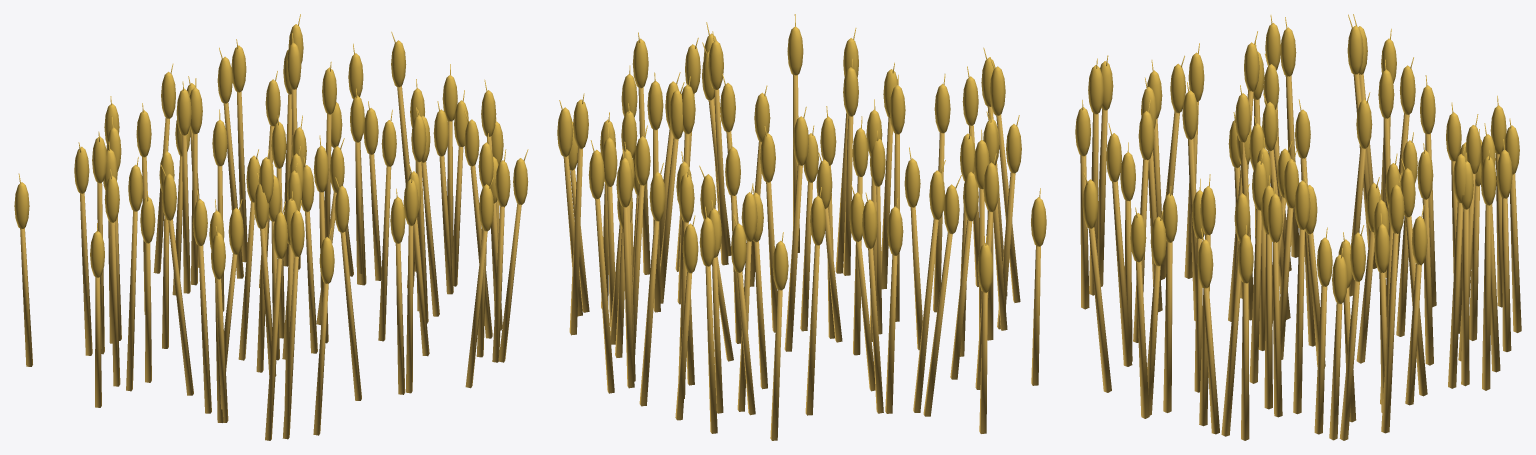
Rendered from resource_wheat.fbx.
The picture shows the model from 3 angles, left to right: view 1: azimuth 30°, elevation 25°; view 2: azimuth 150°, elevation 25°; view 3: azimuth 270°, elevation 25°; orthographic projection. The views are drawn at different scales.
Parts seen in each view (by area): view 1: resource_wheat_stalk_00, resource_wheat_grain_01; view 2: resource_wheat_stalk_00, resource_wheat_grain_01; view 3: resource_wheat_stalk_00, resource_wheat_grain_01.
Boxes of the visible parts, bbox=[...] form: resource_wheat_stalk_00: bbox=[20, 86, 521, 440]; resource_wheat_grain_01: bbox=[14, 14, 528, 283]; resource_wheat_stalk_00: bbox=[563, 75, 1040, 440]; resource_wheat_grain_01: bbox=[557, 14, 1046, 292]; resource_wheat_stalk_00: bbox=[1080, 73, 1521, 440]; resource_wheat_grain_01: bbox=[1075, 14, 1519, 304].
Bounding box in the file's own units: 111 × 58.99 × 95.45.
